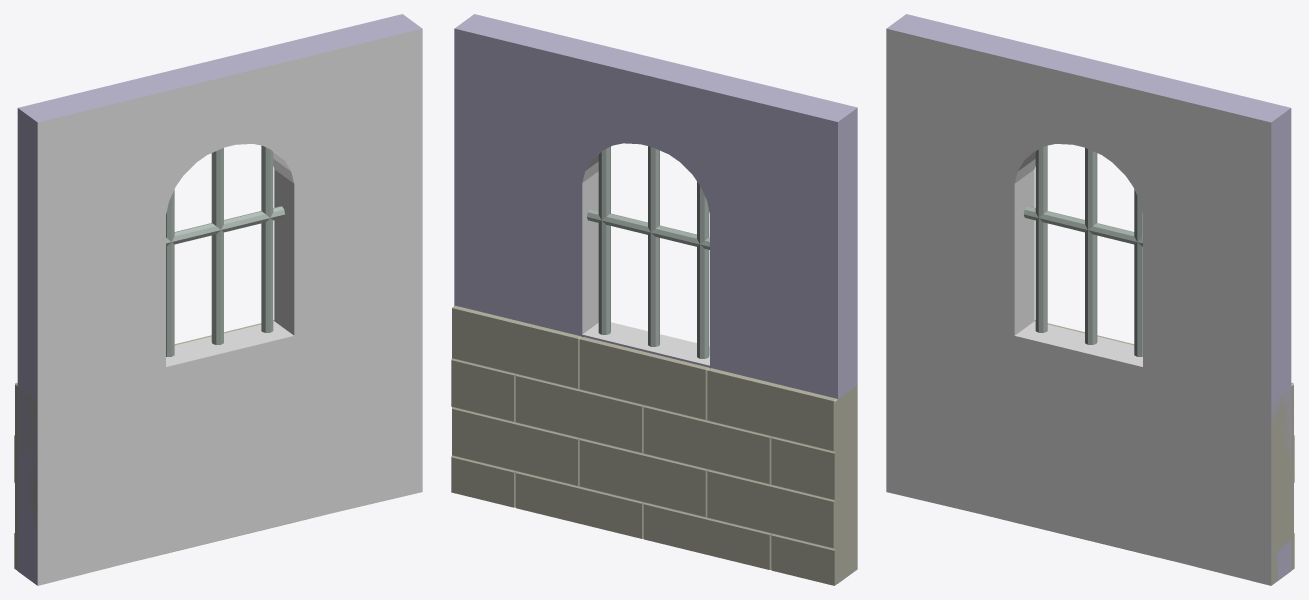
The model's file is Modular Dutch Facade Window.fbx.
The picture shows the model from 3 angles, left to right: view 1: azimuth 30°, elevation 25°; view 2: azimuth 150°, elevation 25°; view 3: azimuth 330°, elevation 25°; orthographic projection.
Visible parts, largest first — view 1: Wall, Bars, Bricks, HorizontalBar; view 2: Wall, Bricks, Bars, HorizontalBar; view 3: Wall, Bars, Bricks, HorizontalBar.
Part boxes in pixels (left/top/right/bottom): Wall: left=17, top=14, right=422, bottom=585; Bars: left=166, top=145, right=273, bottom=356; Bricks: left=14, top=320, right=320, bottom=570; HorizontalBar: left=166, top=206, right=285, bottom=246; Wall: left=454, top=14, right=857, bottom=583; Bricks: left=451, top=305, right=857, bottom=585; Bars: left=598, top=146, right=709, bottom=358; HorizontalBar: left=587, top=209, right=709, bottom=249; Wall: left=886, top=14, right=1291, bottom=585; Bars: left=1035, top=145, right=1142, bottom=356; Bricks: left=988, top=320, right=1294, bottom=584; HorizontalBar: left=1023, top=206, right=1142, bottom=246.
Size of the model in its own units: 200 by 230 by 21.
